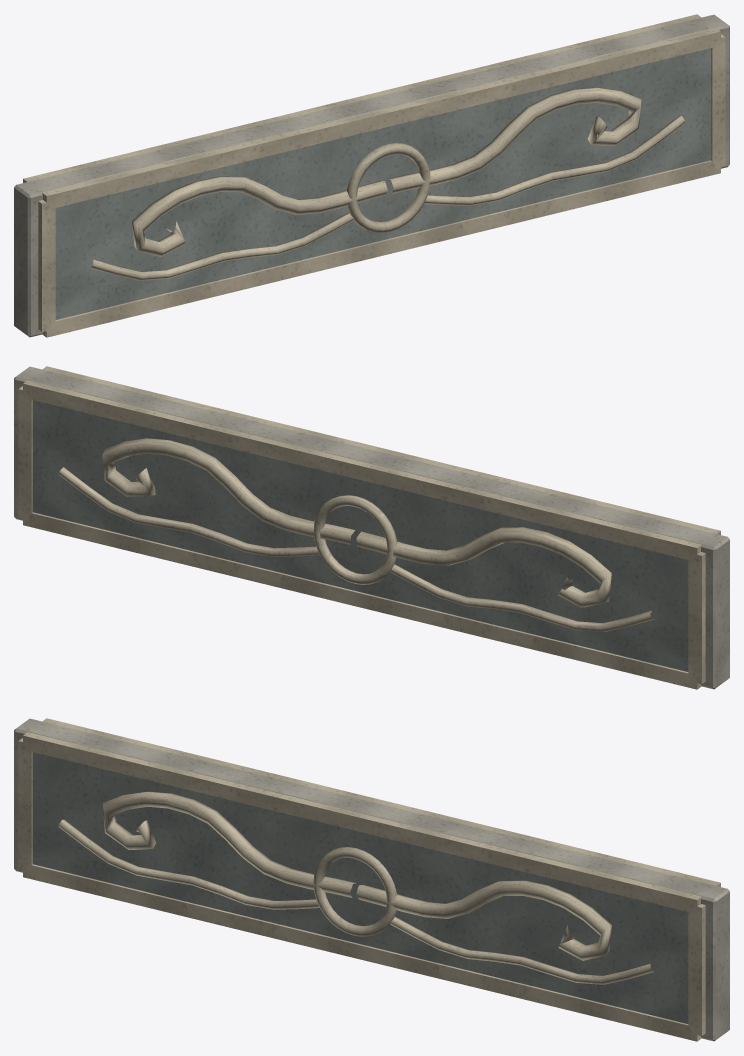
3 renders of one model, top to bottom at view 1: azimuth 30°, elevation 25°; view 2: azimuth 150°, elevation 25°; view 3: azimuth 330°, elevation 25°, orthographic.
Parts seen in each view (by area): view 1: C20_cool, C20_relief, C20_stone; view 2: C20_cool, C20_relief, C20_stone; view 3: C20_cool, C20_relief, C20_stone.
Boxes of the visible parts, <box> form: C20_cool: <box>55,48,711,319</box>; C20_relief: <box>23,14,725,337</box>; C20_stone: <box>14,14,729,337</box>; C20_cool: <box>32,400,688,671</box>; C20_relief: <box>18,366,720,689</box>; C20_stone: <box>14,366,729,689</box>; C20_cool: <box>32,752,688,1023</box>; C20_relief: <box>18,718,720,1041</box>; C20_stone: <box>14,718,729,1041</box>.
Size of the model in its own units: 3.4 by 0.66 by 0.3189.
3 materials, 3 textured.
